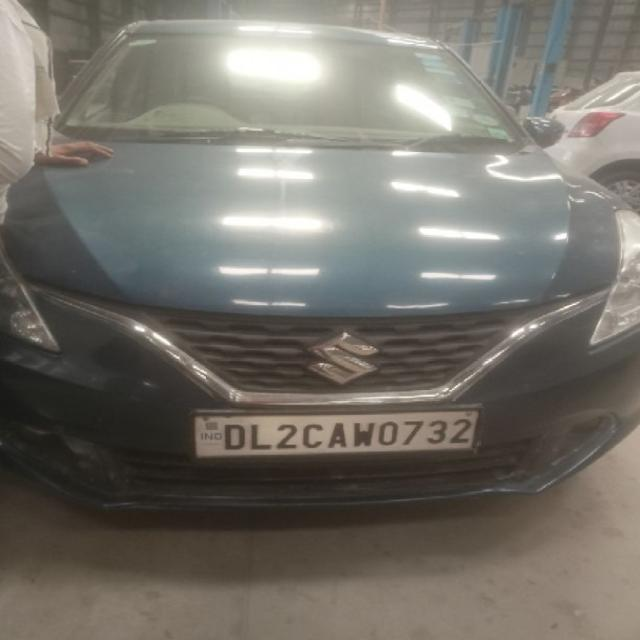license_plate: (190, 405, 482, 459)
